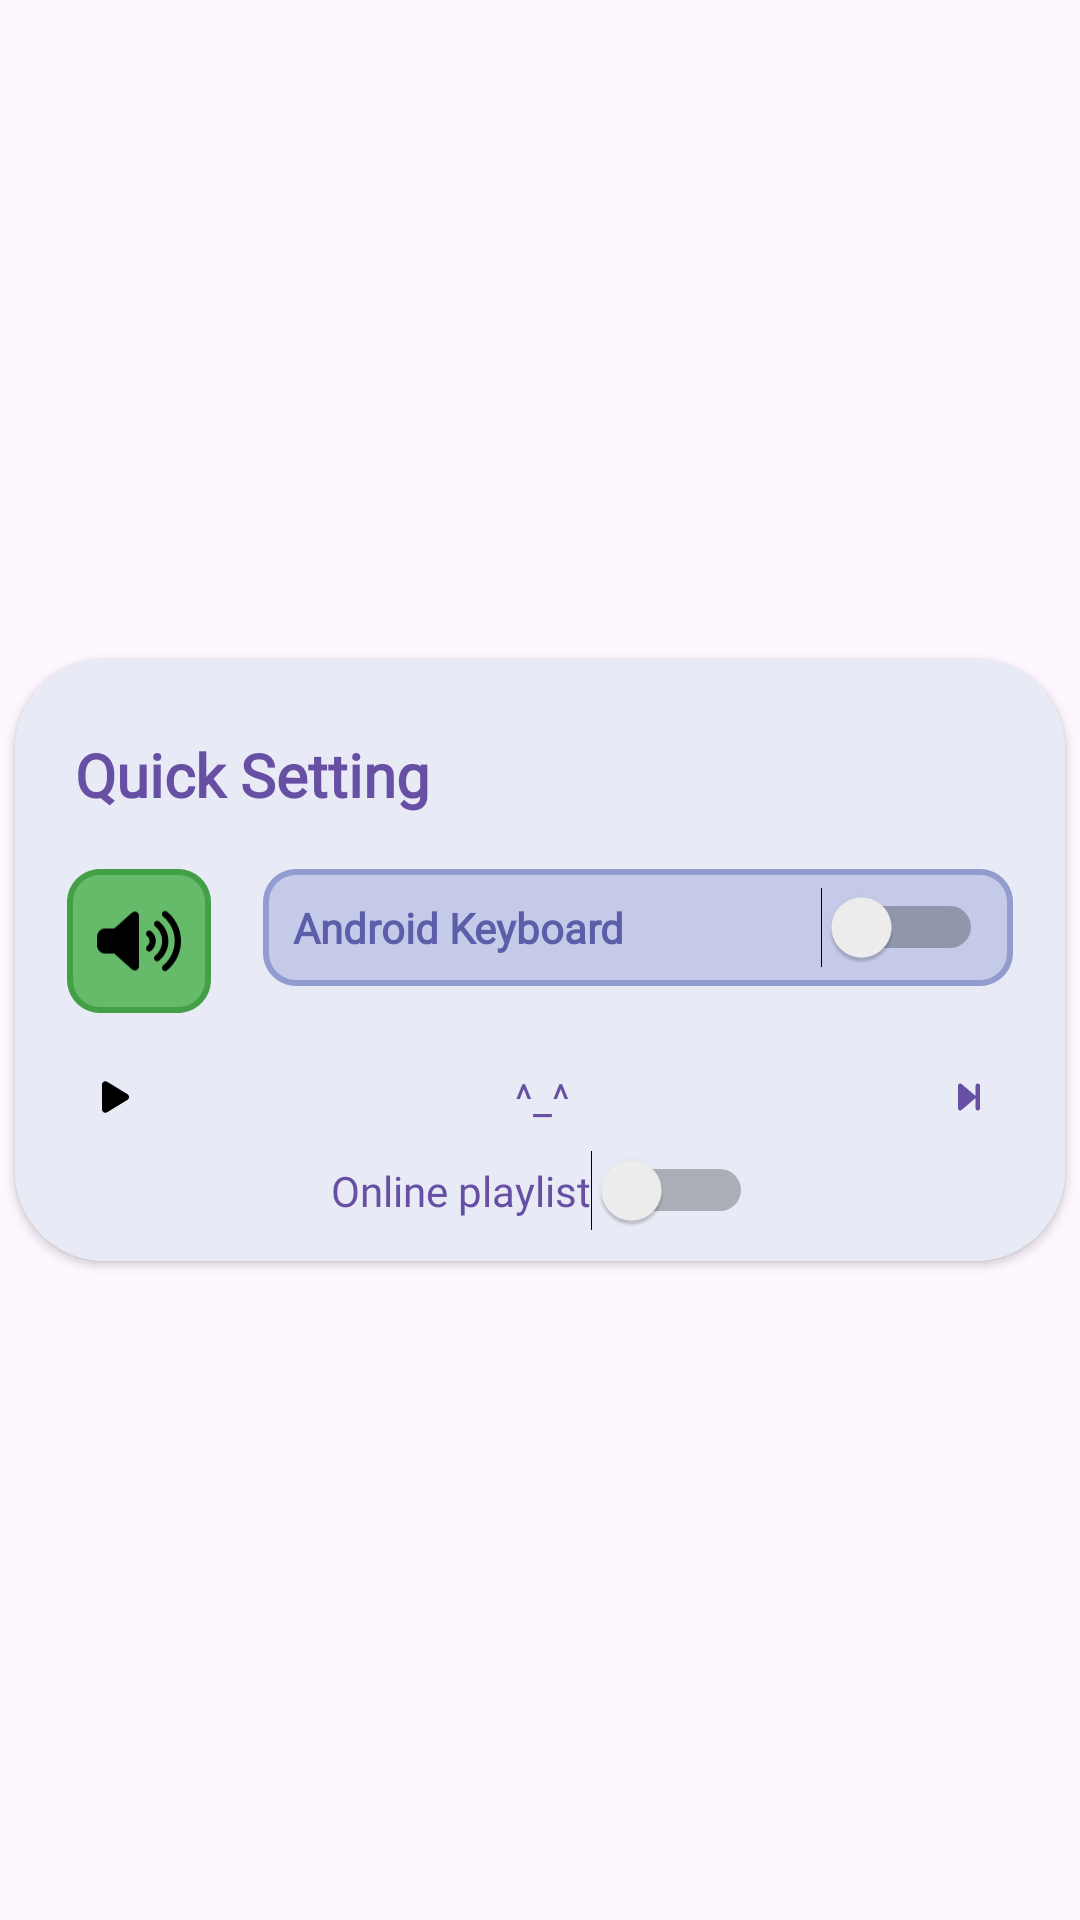

Icon click points for this 1080 x 1920 phone screenshot, format (x,y):
forward step: (969,1097)
play: (115,1097)
volume high: (139,941)
